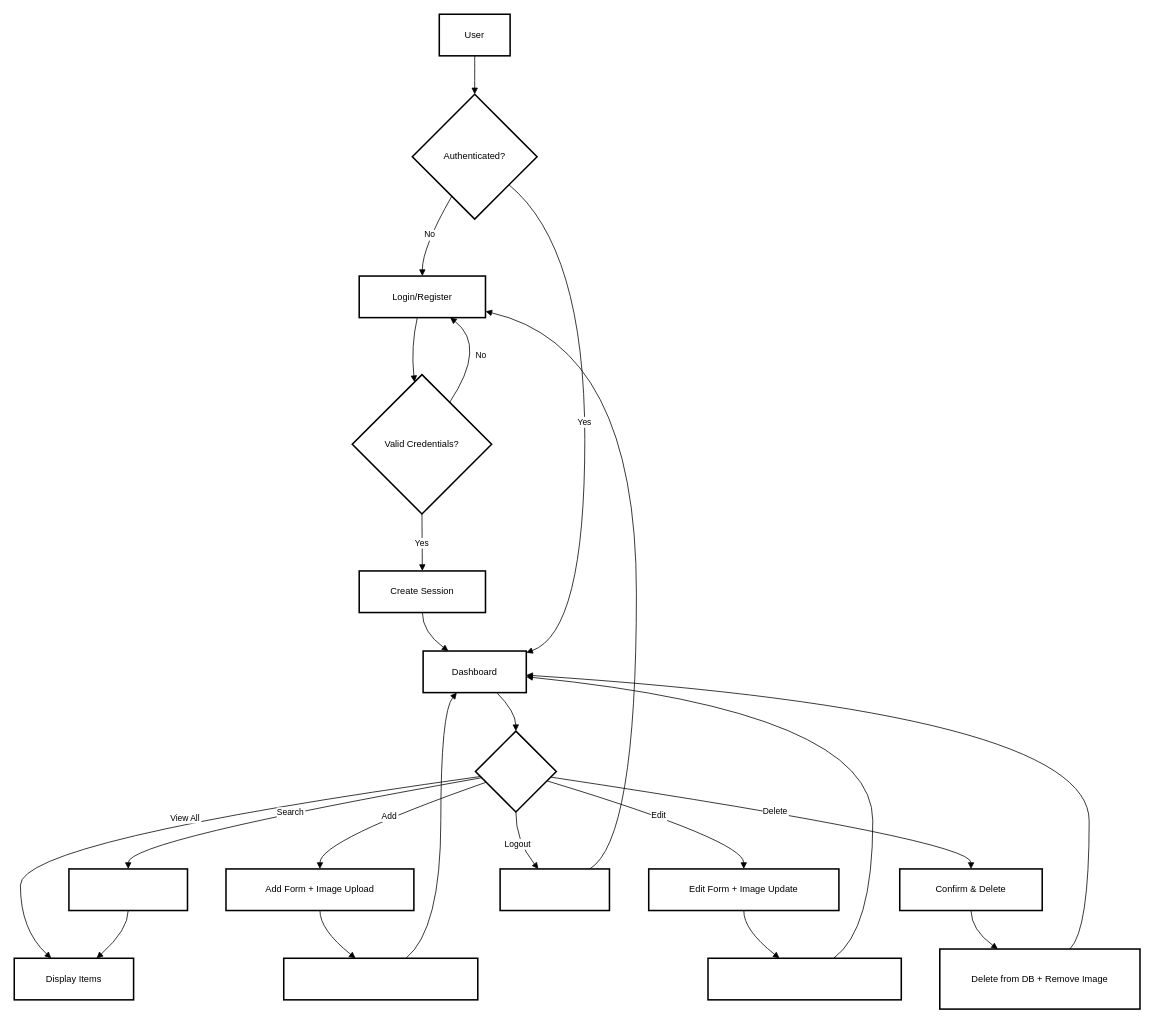
The diagram is 1153 pixels wide and 1023 high, and some of its shapes have lost their labels. The shapes that lost their labels are listed below. From the top down, each one's box as (x1, y1, x2, y2) in pixels, then its label:
(474, 730, 557, 812): Action?
(68, 868, 188, 911): Filter Results
(499, 868, 610, 911): End Session
(283, 957, 478, 1000): Save to DB + Upload Image
(707, 957, 902, 1000): Update DB + Handle Image
